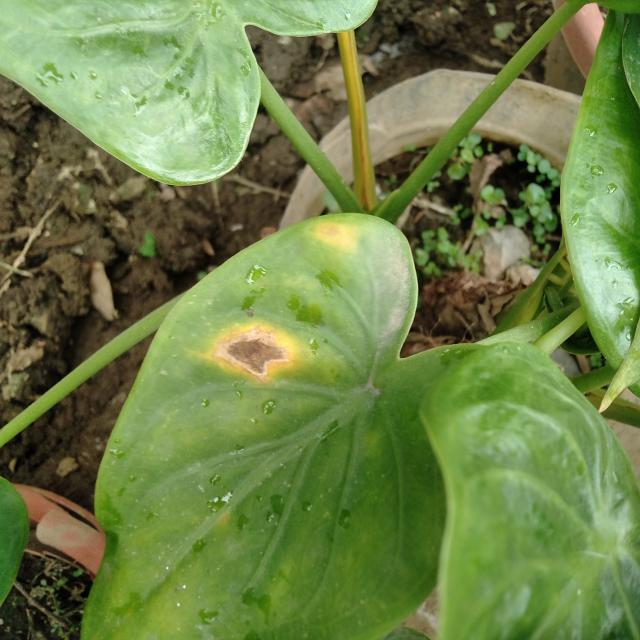blight: (212, 323, 317, 391), (304, 216, 372, 272)
